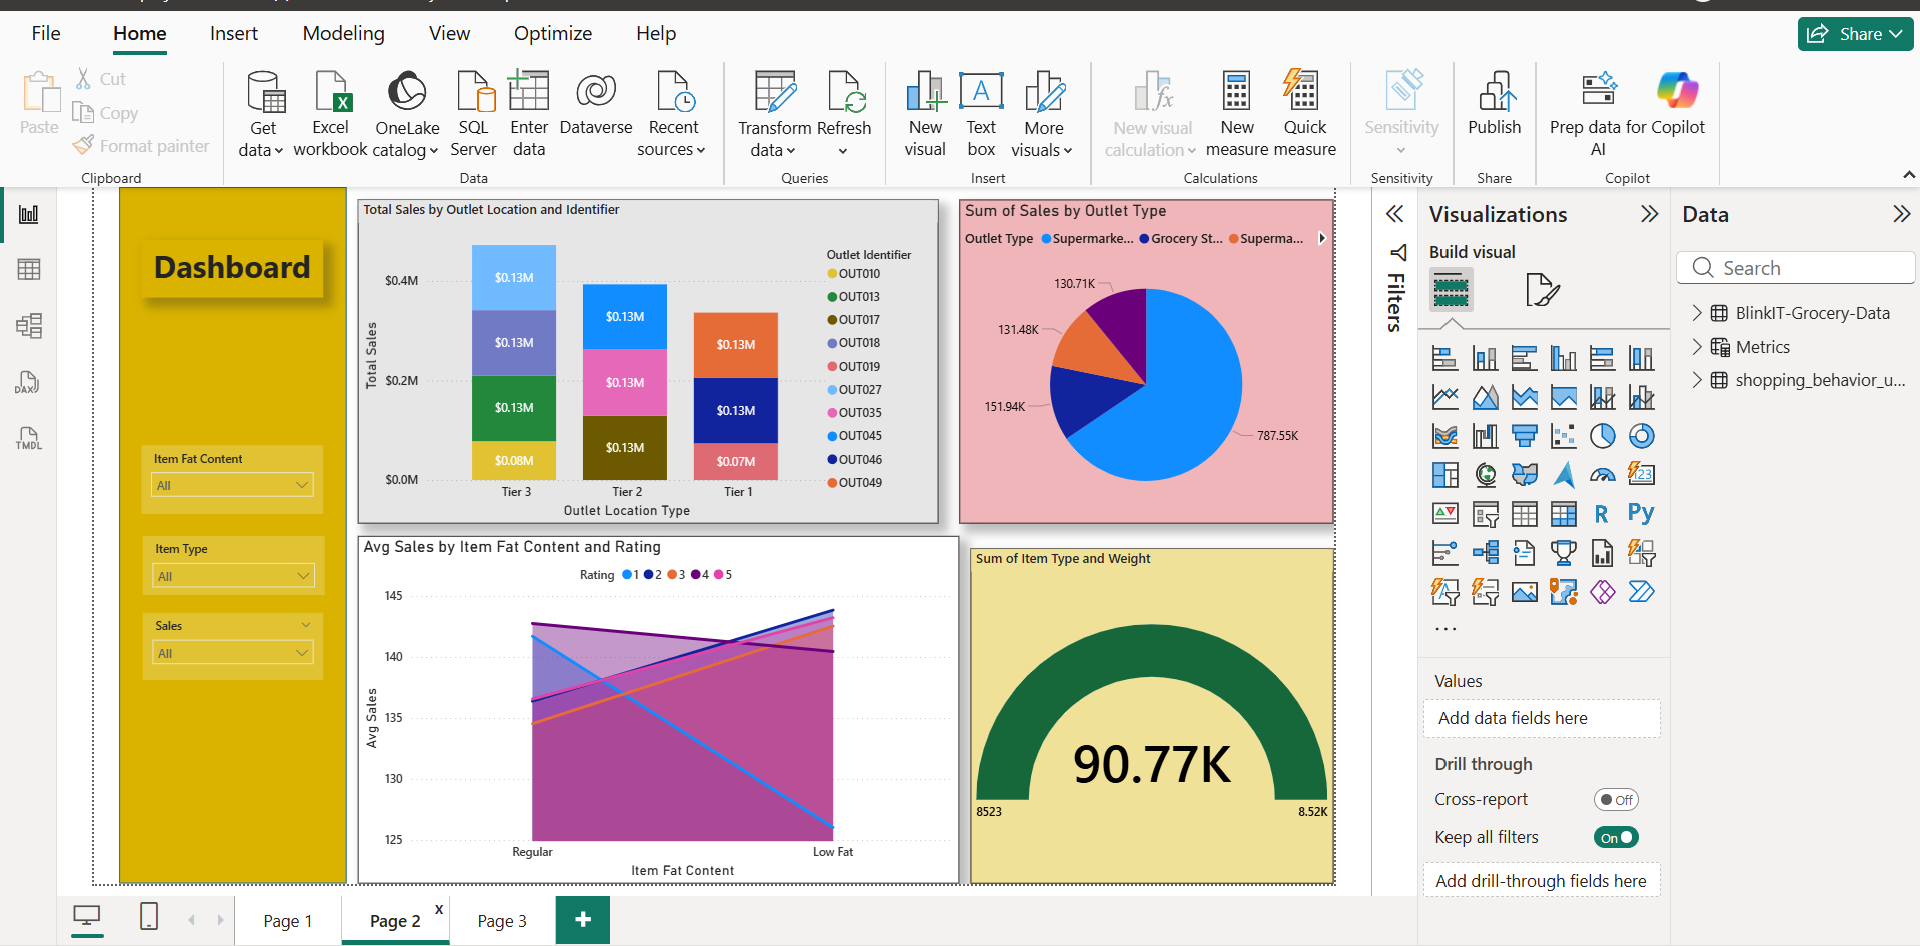

The dashboard page shown, as its layout file describes it:
{"tool":"powerbi","page":{"name":"Page 2","canvas":[1280,720],"ordinal":1},"visuals":[{"type":"shape","box":[25.9,0,235,719.3],"z":0},{"type":"textbox","box":[49,54.8,187.4,59.1],"z":1000},{"type":"columnChart","title":"Total Sales by Outlet Location and Identifier","fields":{"Category":["BlinkIT-Grocery-Data.Outlet Location Type"],"Y":["BlinkIT-Grocery-Data.Total Sales"],"Series":["BlinkIT-Grocery-Data.Outlet Identifier"]},"box":[272.5,13,599.7,334.4],"z":2000},{"type":"pieChart","fields":{"Y":["Sum(BlinkIT-Grocery-Data.Sales)"],"Category":["BlinkIT-Grocery-Data.Outlet Type"]},"box":[893.8,13,386.3,334.4],"z":3000},{"type":"areaChart","fields":{"Category":["BlinkIT-Grocery-Data.Item Fat Content"],"Y":["BlinkIT-Grocery-Data.Avg Sales"],"Series":["BlinkIT-Grocery-Data.Rating"]},"box":[272.5,360.4,621.3,359],"z":4000},{"type":"gauge","title":"Sum of Item Type and Weight","fields":{"Y":["Sum(BlinkIT-Grocery-Data.Item Weight)"],"MinValue":["BlinkIT-Grocery-Data.No of Item"],"MaxValue":["CountNonNull(BlinkIT-Grocery-Data.Item Type)"]},"box":[905.3,373.4,374.8,346],"z":5000},{"type":"slicer","fields":{"Values":["BlinkIT-Grocery-Data.Item Fat Content"]},"box":[49,266.7,187.4,70.6],"z":6000},{"type":"slicer","fields":{"Values":["BlinkIT-Grocery-Data.Item Type"]},"box":[50.5,360.4,187.4,60.5],"z":7000},{"type":"slicer","fields":{"Values":["BlinkIT-Grocery-Data.Sales"]},"box":[50.5,439.7,186,69.2],"z":8000}]}

Visuals, with their boxes on the page's 1280x720 design canvas (x1, y1, x2, y2). These are canvas units, not pixel positions in the 1920x946 screenshot, which may show the page scaled, cropped or inside an application window:
shape: {"left": 26, "top": 0, "right": 261, "bottom": 719}
textbox: {"left": 49, "top": 55, "right": 236, "bottom": 114}
"Total Sales by Outlet Location and Identifier" columnChart: {"left": 272, "top": 13, "right": 872, "bottom": 347}
pieChart - Sum(BlinkIT-Grocery-Data.Sales) x BlinkIT-Grocery-Data.Outlet Type: {"left": 894, "top": 13, "right": 1280, "bottom": 347}
areaChart - BlinkIT-Grocery-Data.Item Fat Content x BlinkIT-Grocery-Data.Avg Sales: {"left": 272, "top": 360, "right": 894, "bottom": 719}
"Sum of Item Type and Weight" gauge: {"left": 905, "top": 373, "right": 1280, "bottom": 719}
slicer - BlinkIT-Grocery-Data.Item Fat Content: {"left": 49, "top": 267, "right": 236, "bottom": 337}
slicer - BlinkIT-Grocery-Data.Item Type: {"left": 50, "top": 360, "right": 238, "bottom": 421}
slicer - BlinkIT-Grocery-Data.Sales: {"left": 50, "top": 440, "right": 236, "bottom": 509}
